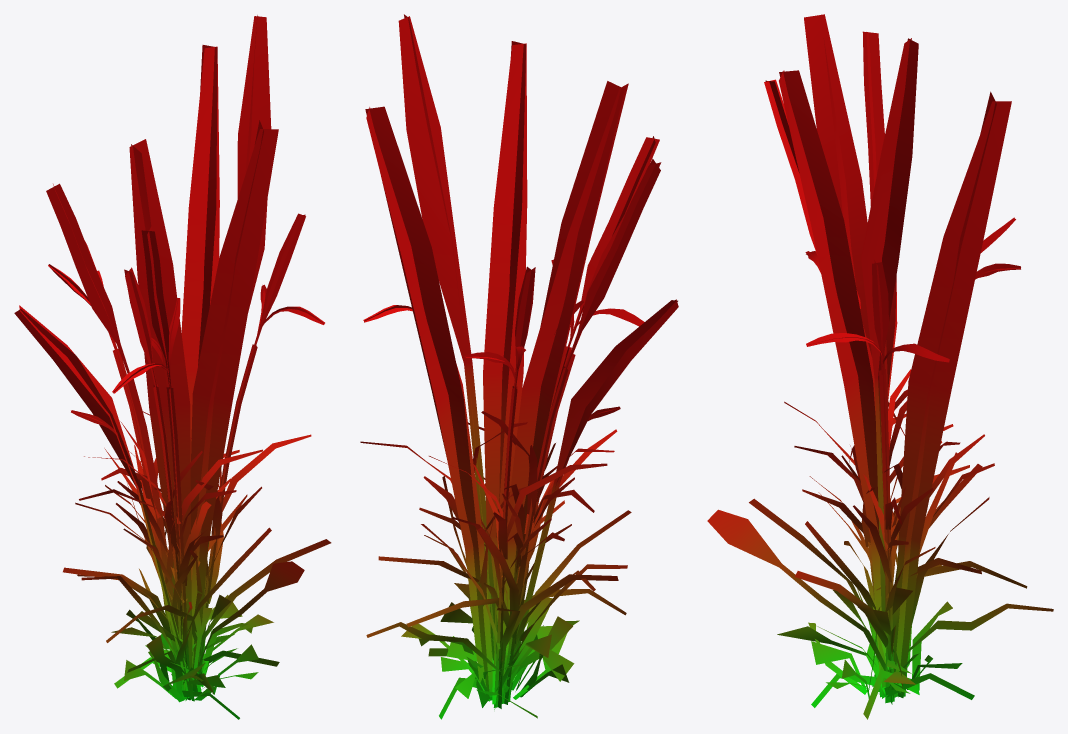
Rendered from Var1_LOD2.fbx.
3 renders of one model, left to right at view 1: azimuth 30°, elevation 25°; view 2: azimuth 150°, elevation 25°; view 3: azimuth 270°, elevation 25°, orthographic. The views are drawn at different scales.
Visible parts, largest first — view 1: _d5ca_Var1_LOD2; view 2: _d5ca_Var1_LOD2; view 3: _d5ca_Var1_LOD2.
Part boxes in pixels (x1=…): _d5ca_Var1_LOD2: x1=14, y1=15, x2=331, y2=719; _d5ca_Var1_LOD2: x1=360, y1=14, x2=678, y2=719; _d5ca_Var1_LOD2: x1=707, y1=14, x2=1053, y2=719.
Size of the model in its own units: 26.66 by 55.1 by 24.64.
